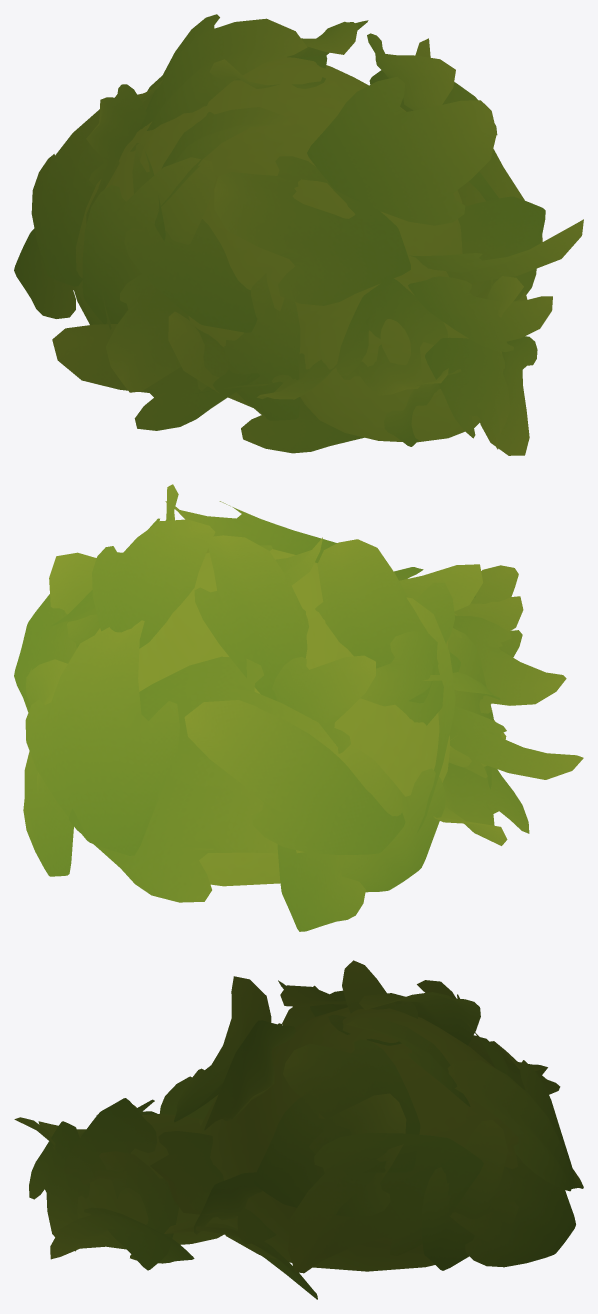
The model's file is MDL_Bush_02.fbx.
3 views of the same model, one above another, from view 1: azimuth 30°, elevation 25°; view 2: azimuth 150°, elevation 25°; view 3: azimuth 270°, elevation 25° (orthographic). The views are drawn at different scales.
Visible parts, largest first — view 1: Bush_B; view 2: Bush_B; view 3: Bush_B.
Boxes of the visible parts, left/top/right/bottom form: Bush_B: left=14, top=14, right=583, bottom=455; Bush_B: left=14, top=484, right=583, bottom=931; Bush_B: left=14, top=960, right=583, bottom=1299.
Bounding box in the file's own units: 99.07 × 65.76 × 125.
